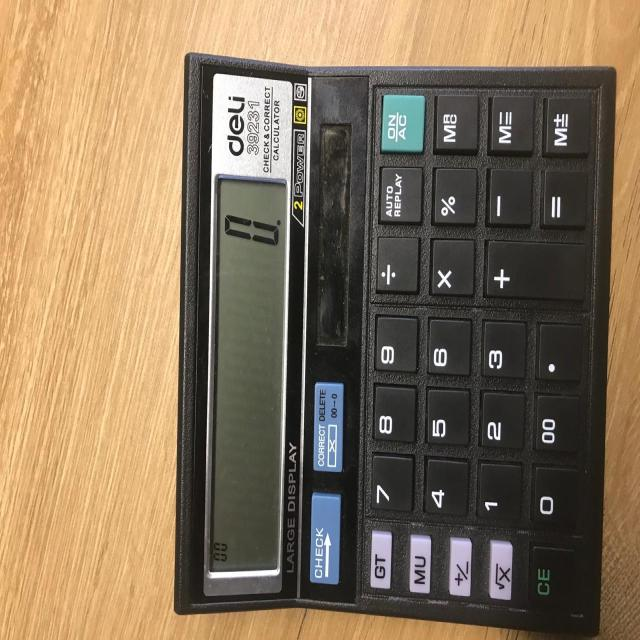calculator: (173, 49, 616, 635)
